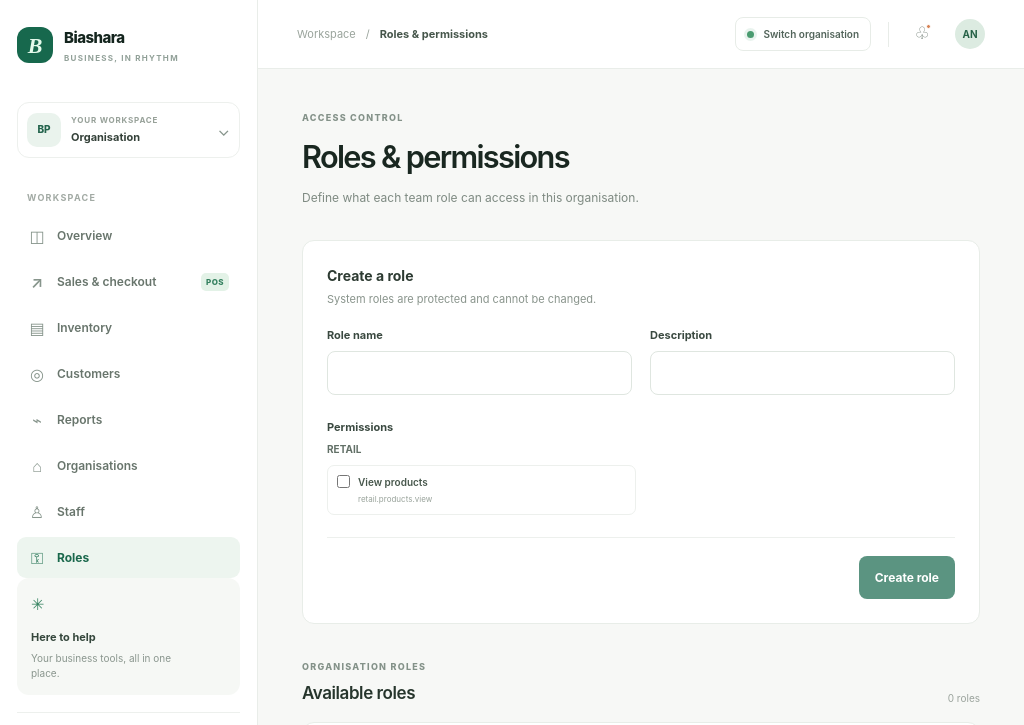
Test case: organisation management › creates a role with selected permissions
Type "Cashier" into the field labelled "Role name".
click(480, 373); type("Cashier")  # box x1=327 y1=351 x2=632 y2=395
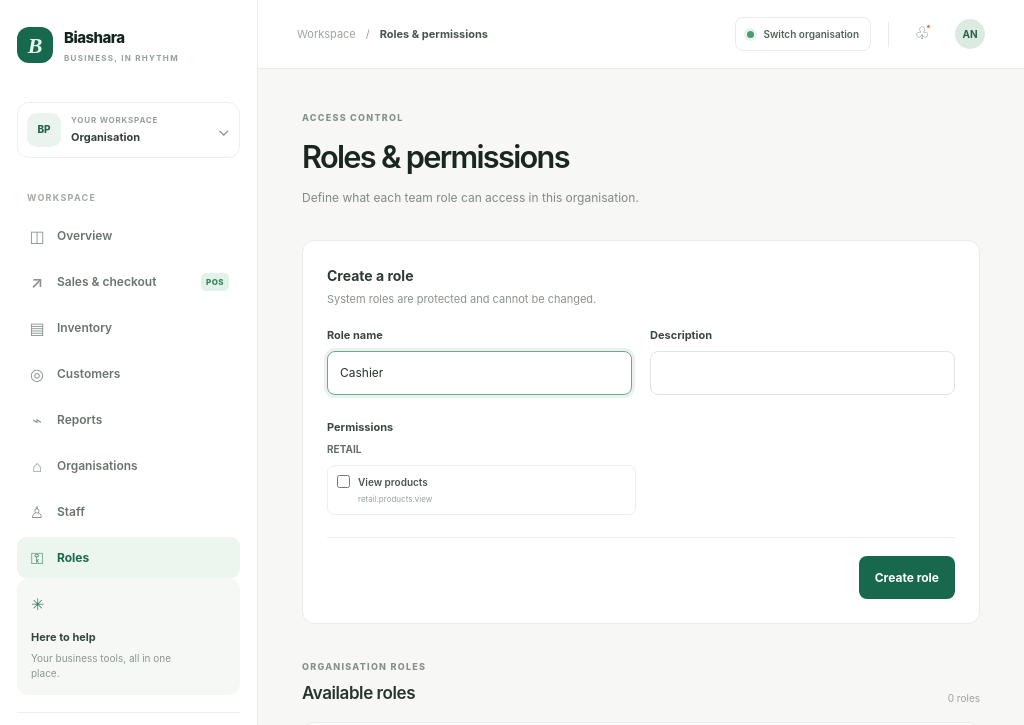
Click the checkbox labelled "View products retail.products.view".
click(344, 482)  # box x1=337 y1=476 x2=350 y2=488
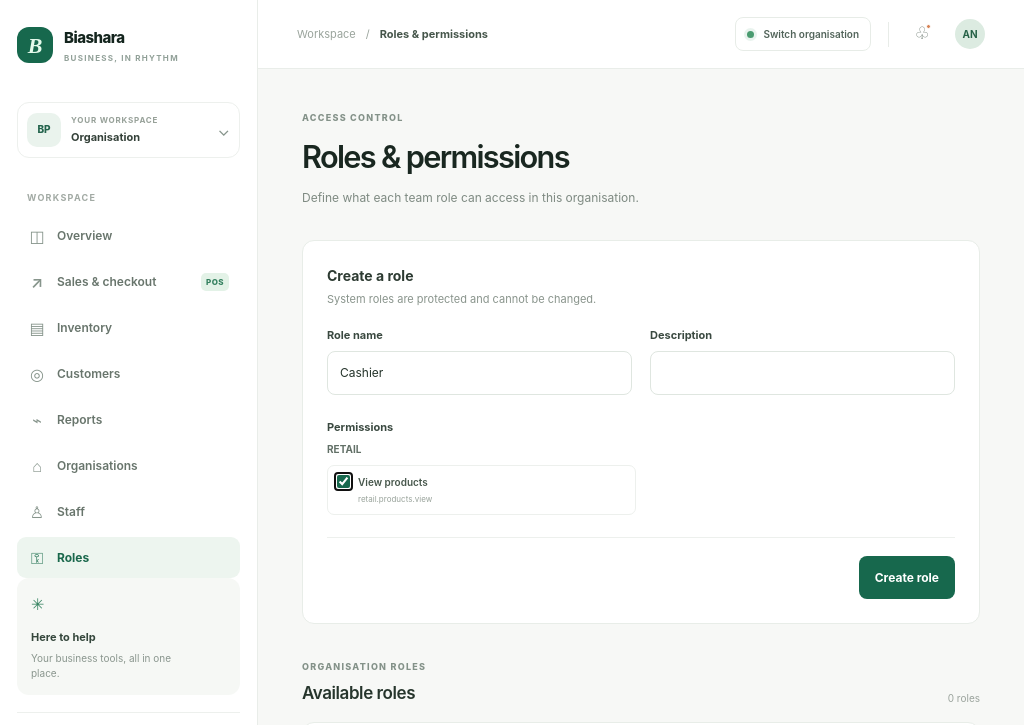
Click the button "Create role".
click(907, 578)  # box x1=859 y1=556 x2=955 y2=600
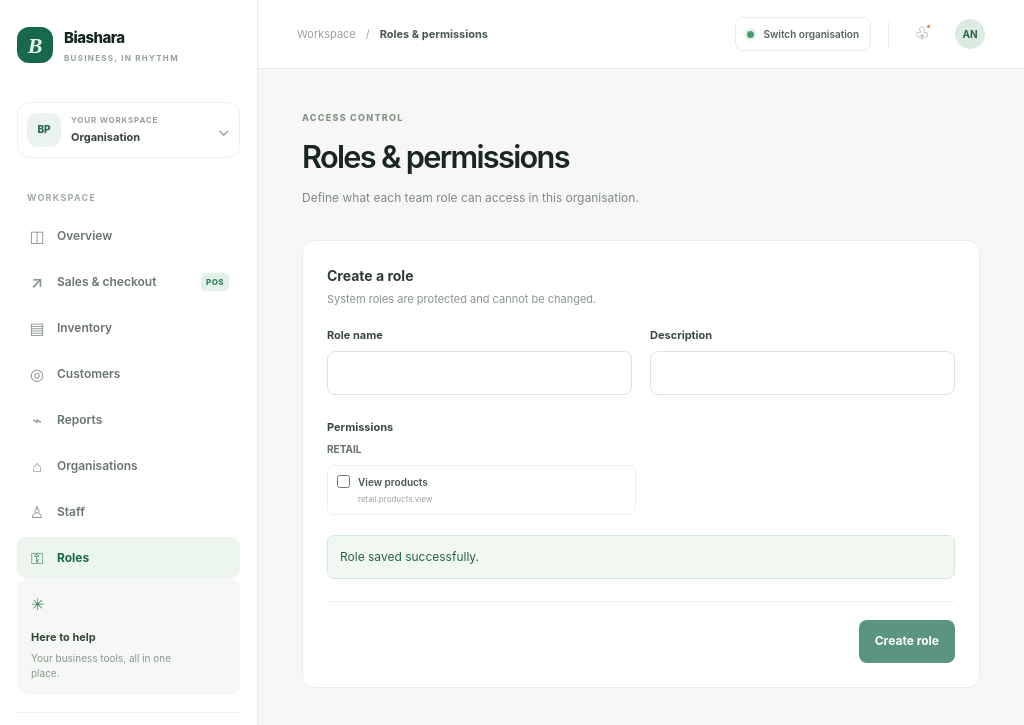
Check: the message reads "Role saved successfully.", box x1=340 y1=550 x2=479 y2=564
